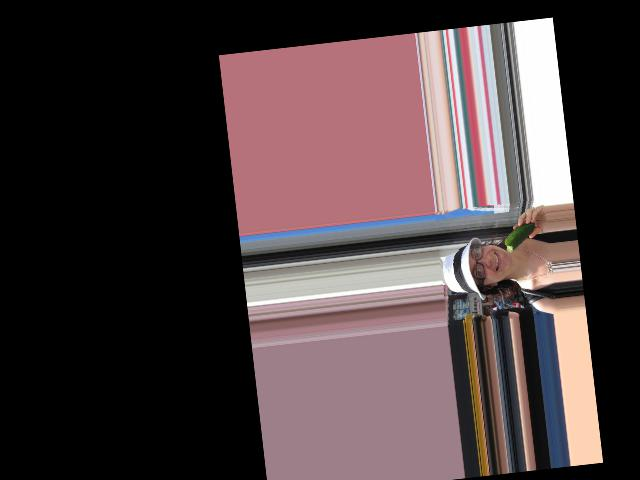cucumber: (503, 220, 537, 252)
